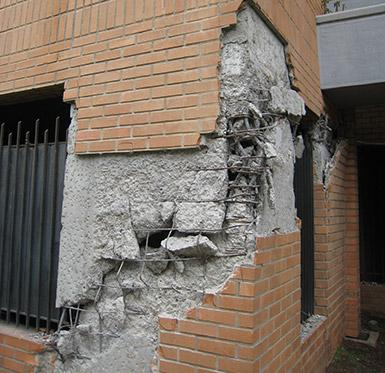spalling: (49, 4, 305, 372), (311, 116, 335, 184)
